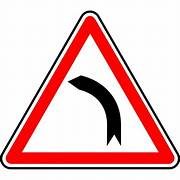left: (2, 13, 180, 170)
